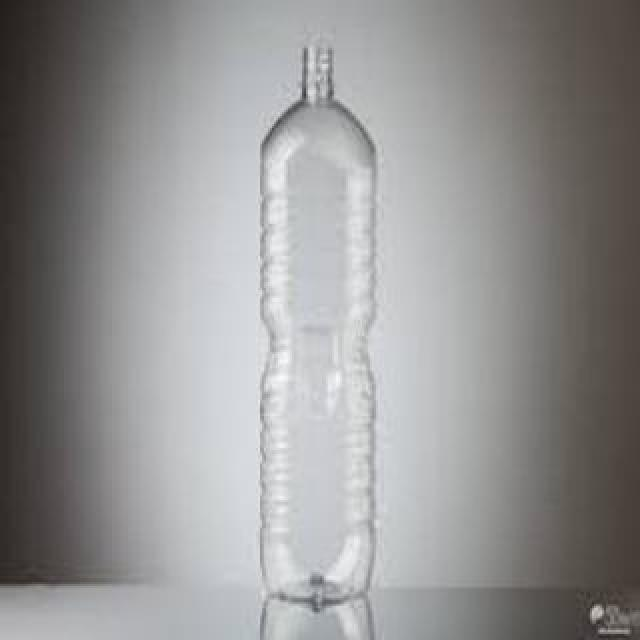Pet_Bottle: (253, 59, 389, 617)
